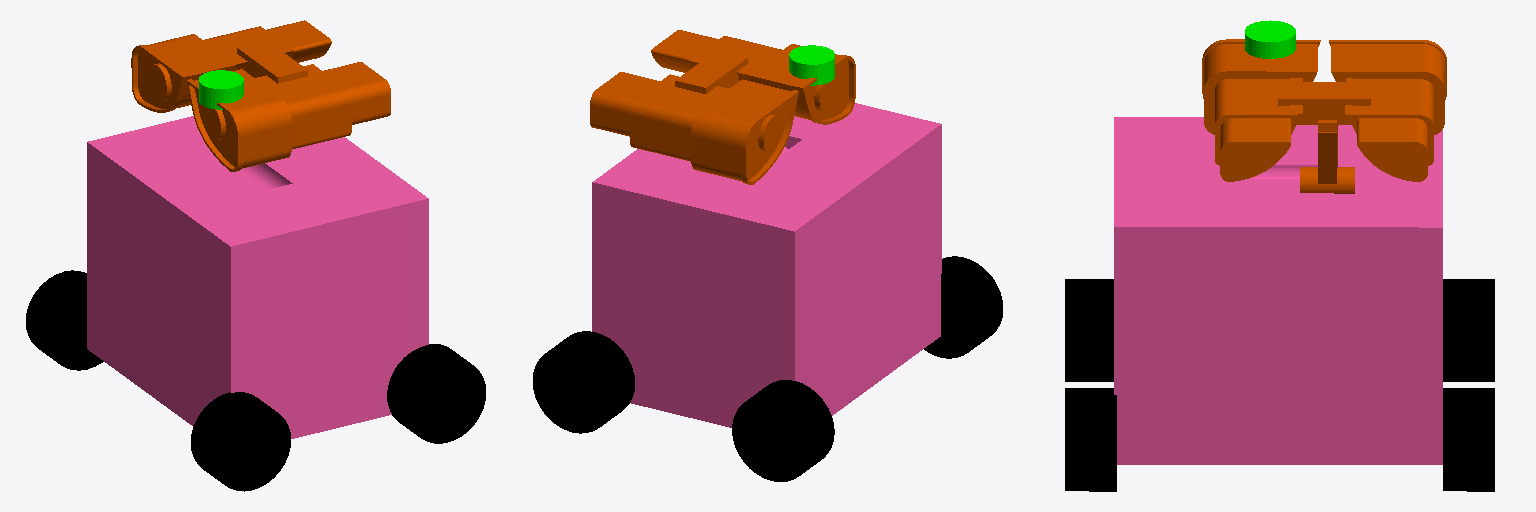
The robot description file, URDF, robot "ugv_robot":
<?xml version="1.0"?>
<robot name="ugv_robot">

  <!-- Thân -->
  <link name="base_link">
    <visual>
      <geometry>
        <mesh filename="package://robile_robot/models/body3.stl"/>
      </geometry>
      <material name="pink">
        <color rgba="1 0.4 0.7 1"/>
      </material>
      <origin xyz="-0.3 0.5 0.1" rpy="1.57 0 0"/>
    </visual>
    <collision>
      <geometry>
        <mesh filename="package://robile_robot/models/body3.stl"/>
      </geometry>
    </collision>
    <inertial>
      <mass value="2"/>
      <inertia ixx="0.4465" ixy="0" ixz="0" iyy="0.3468" iyz="0.0" izz="0.4026"/>
    </inertial>
  </link>

  <!-- Bánh xe -->
  <link name="wheel_ph_trc">
    <visual>
      <geometry>
        <cylinder radius="0.2" length="0.2"/>
      </geometry>
      <material name="black">
        <color rgba="0 0 0 1"/>
      </material>
    </visual>
    <collision>
      <geometry>
        <cylinder radius="0.2" length="0.2"/>
      </geometry>
    </collision>
    <inertial>
      <mass value="1"/>
      <inertia ixx="0.013333" ixy="0.0" ixz="0.0" iyy="0.013333" iyz="0.0" izz="0.02"/>
    </inertial>
  </link>

  <link name="wheel_tr_trc">
    <visual>
      <geometry>
        <cylinder radius="0.2" length="0.2"/>
      </geometry>
      <material name="black">
        <color rgba="0 0 0 1"/>
      </material>
    </visual>
    <collision>
      <geometry>
        <cylinder radius="0.2" length="0.2"/>
      </geometry>
    </collision>
    <inertial>
      <mass value="1"/>
      <inertia ixx="0.013333" ixy="0.0" ixz="0.0" iyy="0.013333" iyz="0.0" izz="0.02"/>
    </inertial>
  </link>

  <link name="wheel_tr_s">
    <visual>
      <geometry>
        <cylinder radius="0.2" length="0.2"/>
      </geometry>
      <material name="black">
        <color rgba="0 0 0 1"/>
      </material>
    </visual>
    <collision>
      <geometry>
        <cylinder radius="0.2" length="0.2"/>
      </geometry>
    </collision>
    <inertial>
      <mass value="1"/>
      <inertia ixx="0.013333" ixy="0.0" ixz="0.0" iyy="0.013333" iyz="0.0" izz="0.02"/>
    </inertial>
  </link>

  <link name="wheel_ph_s">
    <visual>
      <geometry>
        <cylinder radius="0.2" length="0.2"/>
      </geometry>
      <material name="black">
        <color rgba="0 0 0 1"/>
      </material>
    </visual>
    <collision>
      <geometry>
        <cylinder radius="0.2" length="0.2"/>
      </geometry>
    </collision>
    <inertial>
      <mass value="1"/>
      <inertia ixx="0.013333" ixy="0.0" ixz="0.0" iyy="0.013333" iyz="0.0" izz="0.02"/>
    </inertial>
  </link>

  <gazebo>
    <plugin name="diff_drive" filename="libgazebo_ros_diff_drive.so">
    <ros>
  <namespace>/</namespace>
</ros>
        <!-- Joint Names -->
        <leftJoint>joint_wheel_tr_trc</leftJoint>
        <rightJoint>joint_wheel_ph_trc</rightJoint>
        <!-- <leftJoint>joint_wheel_tr_s</leftJoint>
        <rightJoint>joint_wheel_ph_s</rightJoint> -->

        <!-- Wheel Properties -->
        <wheelSeparation>0.25</wheelSeparation>
        <wheelDiameter>0.4</wheelDiameter>

        <!-- Control Topic -->

        <commandTopic>/cmd_vel</commandTopic>

        <!-- Odometry and Frames -->
        <odometryTopic>/odom</odometryTopic>
        <odometryFrame>odom</odometryFrame>
        <odometrySource>world</odometrySource>
        <robotBaseFrame>base_link</robotBaseFrame>

        <!-- Publish Options -->
        <publishOdomTF>true</publishOdomTF>
        <publishWheelTF>true</publishWheelTF>
        <publishTf>true</publishTf>
        <publishWheelJointState>true</publishWheelJointState>
        <!-- Wheel Dynamics -->
        <wheelAcceleration>200.0</wheelAcceleration>
        <wheelTorque>200.0</wheelTorque>
        <updateRate>100</updateRate>

        <rosDebugLevel>na</rosDebugLevel>
        
    </plugin>

</gazebo>

  <!-- Khớp nối bánh xe -->
  <joint name="joint_wheel_tr_trc" type="continuous">
    <parent link="base_link"/>
    <child link="wheel_tr_trc"/>
    <origin xyz="-0.3 -0.865 0.2" rpy="1.57 0 0"/>
    <axis xyz="0 0 1"/>
  </joint>

  <joint name="joint_wheel_ph_trc" type="continuous">
    <parent link="base_link"/>
    <child link="wheel_ph_trc"/>
    <origin xyz="-0.3 0.6 0.2" rpy="1.57 0 0"/>
    <axis xyz="0 0 1"/>
  </joint>

  <joint name="joint_wheel_ph_s" type="continuous">
    <parent link="base_link"/>
    <child link="wheel_ph_s"/>
    <origin xyz="0.7 0.6 0.2" rpy="1.57 0 0"/>
    <axis xyz="0 0 1"/>
  </joint>

  <joint name="joint_wheel_tr_s" type="continuous">
    <parent link="base_link"/>
    <child link="wheel_tr_s"/>
    <origin xyz="0.7 -0.865 0.2" rpy="1.57 0 0"/>
    <axis xyz="0 0 1"/>
  </joint>

  <!-- <camera> -->

<!-- Base Camera -->
<link name="camera_link">
        <visual>
            <geometry>
                <mesh filename="package://robile_robot/models/eye.stl" scale="0.5 0.5 0.5"/>
            </geometry>
            <origin xyz="-1.3 -0.6 -1.55" rpy="1.57 0 1.57"/>
        </visual>
        <inertial>

            <mass value="0.1"/>
            <inertia ixx="0.00004167" ixy="0.000" ixz="0.00" iyy="0.00007083" iyz="0.0" izz="0.00010417"/>

        </inertial>
    </link>
    <!-- Camera Joint -->
    <joint name="camera_joint" type="fixed">
        <parent link="base_link"/>
        <child link="camera_link"/>
        <origin xyz="0 0 1.45" rpy="0 0 3.14"/>
    </joint>
  <!-- Camera Work -->
    <gazebo reference="camera_link">
        <material>Gazebo/Red</material>
        <sensor name="camera" type="camera">
            <pose> 1.25 -0.4 2 0 0 0 </pose>
            <visualize>true</visualize>
            <update_rate>10</update_rate>
            <camera>
                <horizontal_fov>1.089</horizontal_fov>
                <image>
                    <format>R8G8B8</format>
                    <width>640</width>
                    <height>480</height>
                </image>
                <clip>
                    <near>0.05</near>
                    <far>8.0</far>
                </clip>
            </camera>
            <plugin name="camera_controller" filename="libgazebo_ros_camera.so">
                <frame_name>camera_link_optical</frame_name>
            </plugin>
        </sensor>
    </gazebo>

<!-- Base Sensor -->
 <link name="base_scan">
    <visual>
      <origin xyz="0 0 0.0" rpy="0 0 0"/>
      <geometry>
        <cylinder length="0.1" radius="0.1"/>
      </geometry>
     <material name="green">
        <color rgba="0.0 1 0.0 1.0"/>
     </material>
    </visual>
    <collision>
      <origin xyz="0 0 0.3" rpy="0 0 0"/>
      <geometry>
        <cylinder length="0.1" radius="0.1"/>
      </geometry>
    </collision>
    <inertial>
      <mass value="0.1" />
      <origin xyz="0 0 0" />
      <inertia ixx="0.0003333" ixy="0.0" ixz="0.0"
               iyy="0.0003333" iyz="0.0"
               izz="0.0005" />
    </inertial>
  </link>
  
  <!-- Sensor Joint -->
<joint name="scan_joint" type="fixed">
    <parent link="base_link"/>
    <child link="base_scan"/>
    <origin xyz="0 -0.17 1.57" rpy="0 0 0"/>
  </joint>
   

 </robot>

--- What the picture shows (computed from the rendered views, not written in the file) ---
The picture shows the robot from 3 angles, left to right: view 1: azimuth 30°, elevation 25°; view 2: azimuth 150°, elevation 25°; view 3: azimuth 270°, elevation 25°; orthographic projection.
Model ugv_robot with 7 links and 6 joints (4 continuous, 2 fixed), rooted at base_link, posed all joints at 0.
Links seen in each view (by area): view 1: base_link, camera_link, wheel_tr_trc, wheel_tr_s, wheel_ph_trc, base_scan; view 2: base_link, camera_link, wheel_ph_trc, wheel_ph_s, wheel_tr_trc, base_scan; view 3: base_link, camera_link, wheel_ph_s, wheel_tr_s, wheel_ph_trc, wheel_tr_trc, base_scan.
Boxes of the visible links, x1,y1,x2,y2 form: base_link: (87,116,428,438); camera_link: (131,20,390,171); wheel_tr_trc: (191,392,290,491); wheel_tr_s: (387,344,485,443); wheel_ph_trc: (26,270,103,370); base_scan: (199,70,243,109); base_link: (592,103,941,427); camera_link: (590,30,855,184); wheel_ph_trc: (732,380,834,481); wheel_ph_s: (533,331,634,433); wheel_tr_trc: (924,256,1002,358); base_scan: (789,45,834,85); base_link: (1114,117,1442,464); camera_link: (1202,39,1446,193); wheel_ph_s: (1443,388,1494,491); wheel_tr_s: (1065,388,1116,491); wheel_ph_trc: (1443,279,1494,381); wheel_tr_trc: (1065,279,1113,381); base_scan: (1245,20,1295,58).
Bounding box of the posed robot: 1.4 × 1.67 × 1.62 m (x, y, z).
2 mesh visuals loaded from 2 distinct referenced files (2 binary STL).